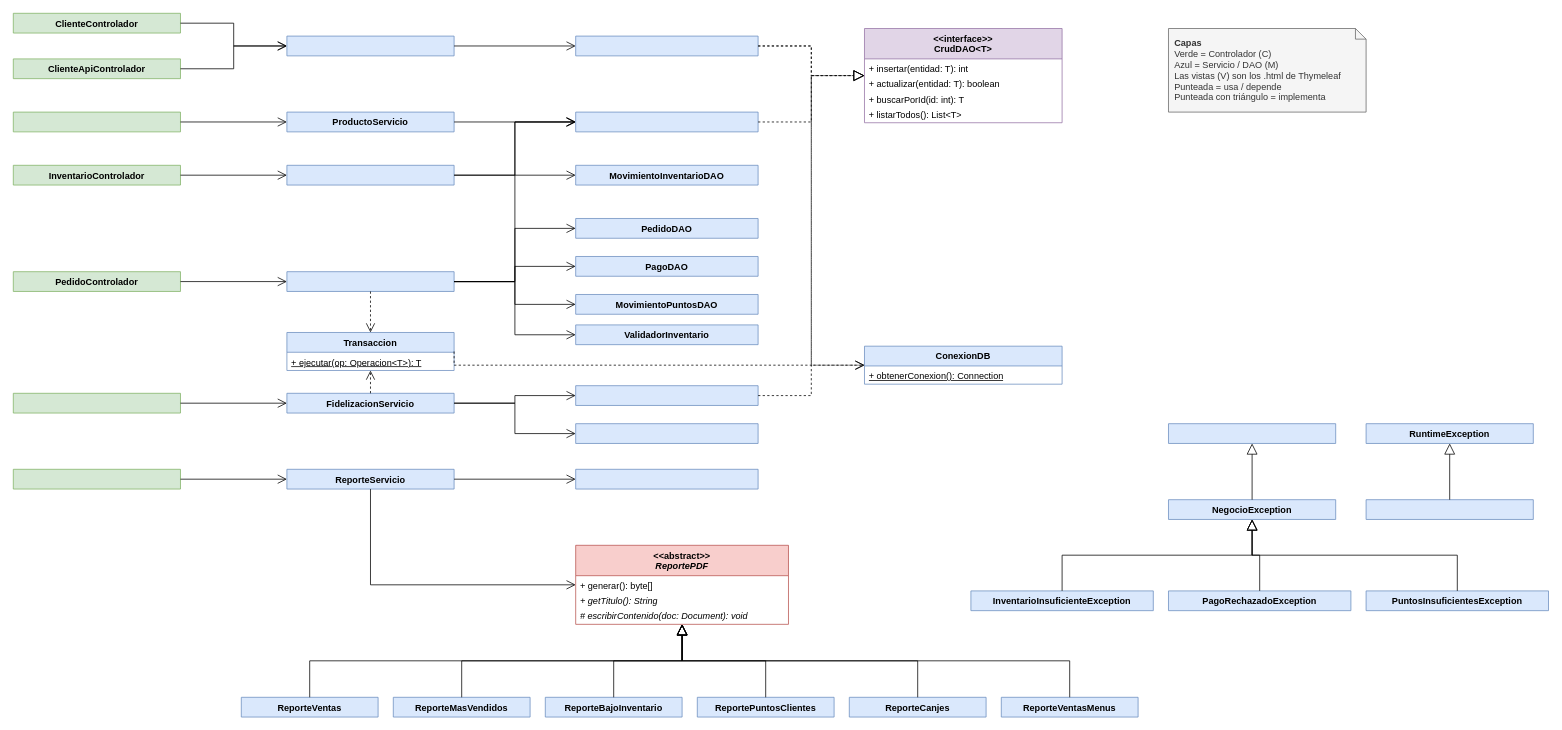
This 1562x730 diagram has some shape labels left out. The centre of each missing label's shape, as x and y in pixels:
CanjeDAO: the point at 666,433
ClienteDAO: the point at 666,45
ClienteServicio: the point at 370,45
DatosException: the point at 1449,509
Exception: the point at 1252,433
InventarioServicio: the point at 370,175
PedidoServicio: the point at 370,281
ProductoControlador: the point at 96,121
ProductoDAO: the point at 666,121
RecompensaControlador: the point at 96,403
RecompensaDAO: the point at 666,395
ReporteControlador: the point at 96,479
ReporteDAO: the point at 666,479
